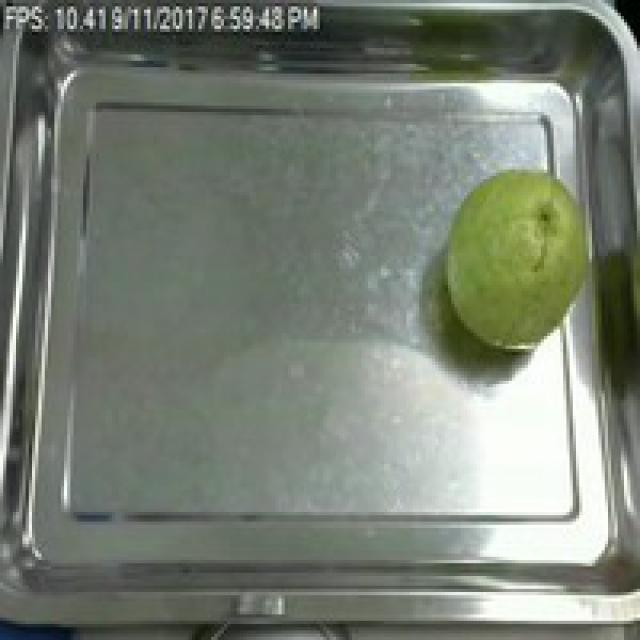Fruit: (429, 157, 608, 365)
